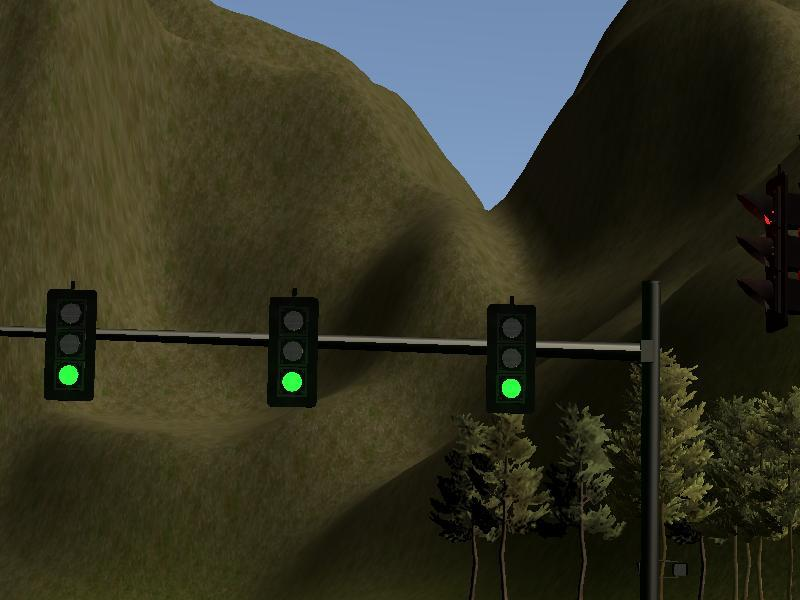Green: (47, 289, 95, 400), (271, 299, 317, 404), (488, 305, 533, 410)
